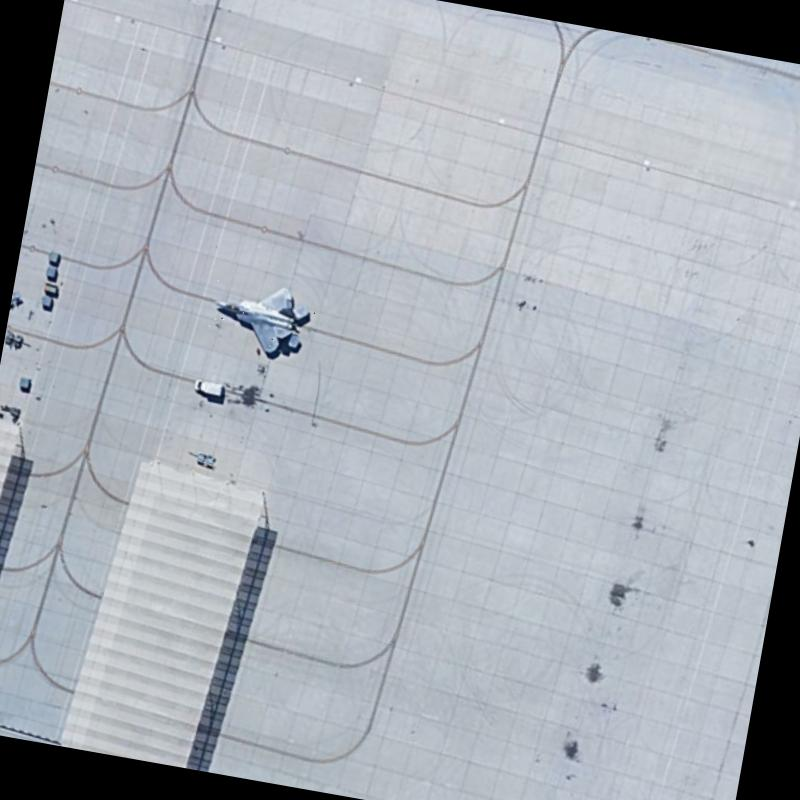A15: (203, 271, 319, 368)
